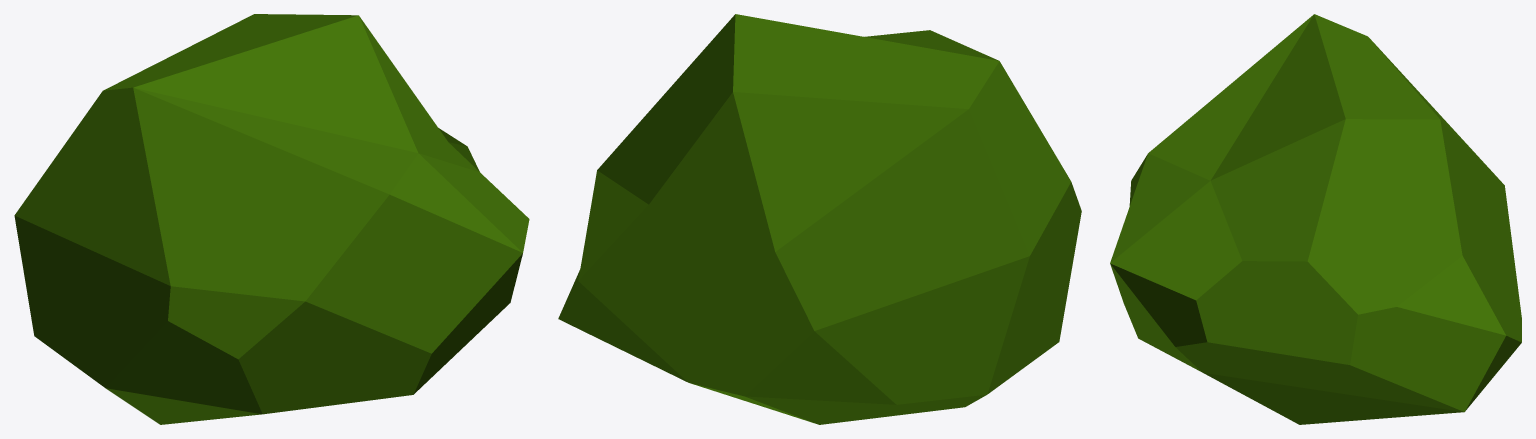
The model's file is rock3.fbx.
3 views of the same model, side by side, from view 1: azimuth 30°, elevation 25°; view 2: azimuth 150°, elevation 25°; view 3: azimuth 270°, elevation 25° (orthographic). The views are drawn at different scales.
Visible parts, largest first — view 1: rock3; view 2: rock3; view 3: rock3.
Part boxes in pixels (left/top/right/bottom): rock3: left=14, top=14, right=529, bottom=424; rock3: left=558, top=14, right=1081, bottom=424; rock3: left=1110, top=14, right=1521, bottom=424.
Size of the model in its own units: 122 by 95.36 by 112.
